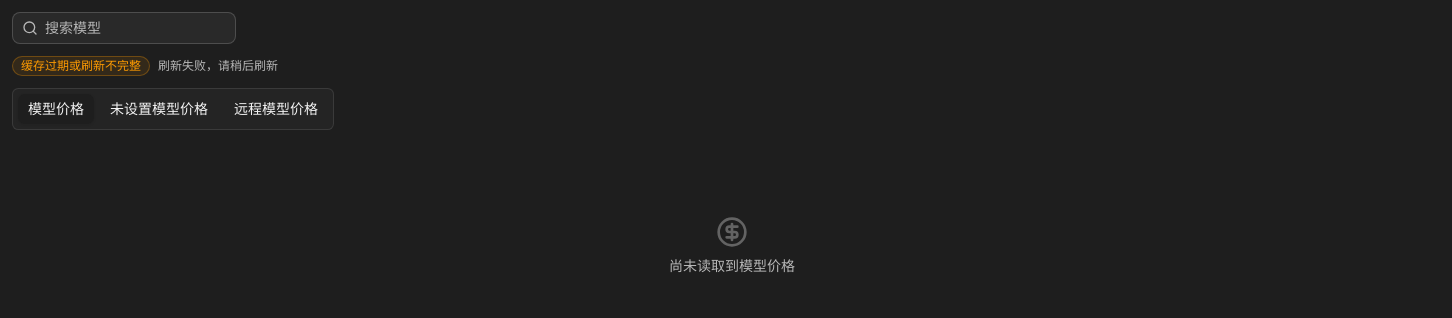
it: 模型参考价缓存 › 刷新失败时展示过期提示且已有缓存仍可查看
Click the tab "远程模型价格".
click(276, 109)  # box [223,93,329,125]
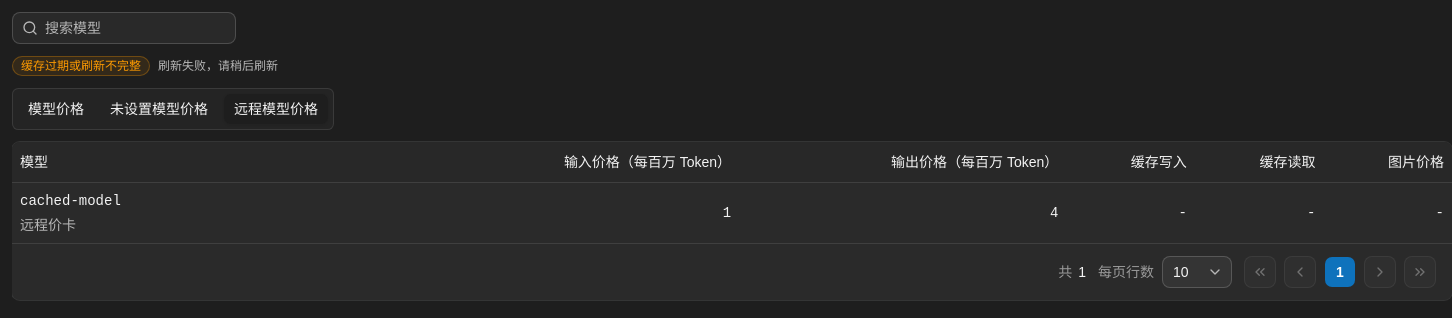
Expected: the text "缓存过期或刷新不完整" is shown, [21,57,141,75]
Now the row "cached-model 远程价卡 1 4 - - -" is shown, box [12,182,1451,242]
